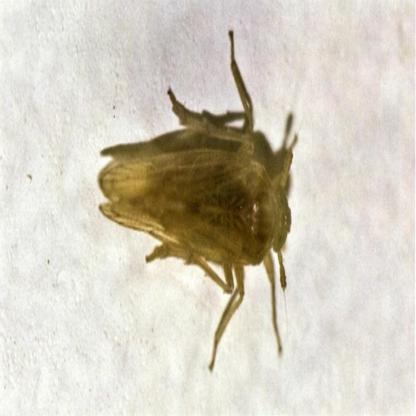brown-planthopper: (95, 80, 300, 341)
